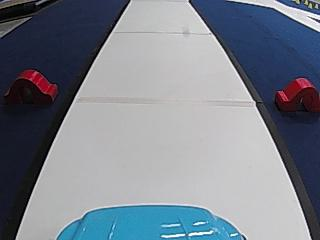Tracktor: (4, 66, 58, 105), (271, 76, 319, 114)
